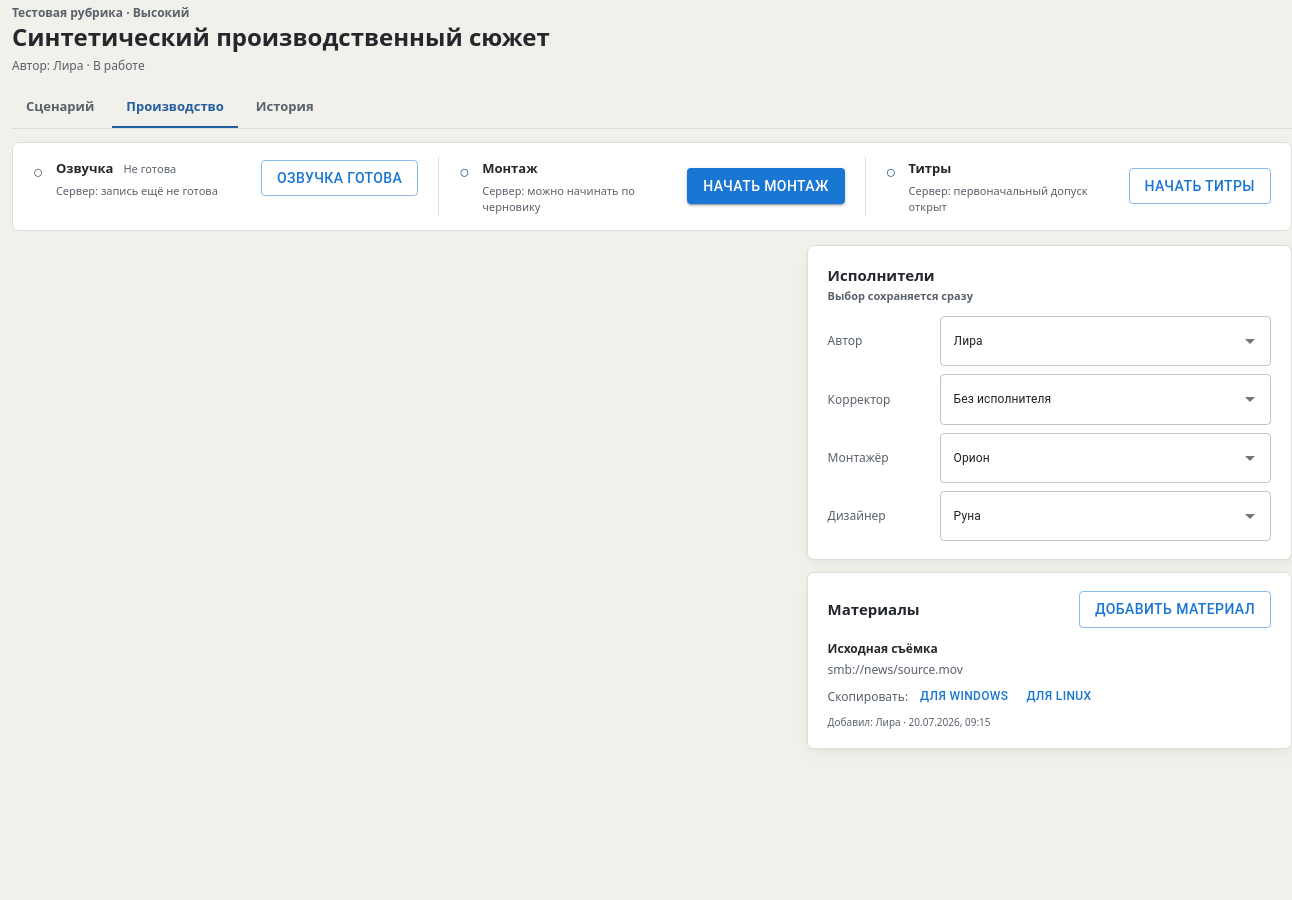
Test: StoryProductionPage server read model › changes the author first in performers using canonical story management
The image size is (1292, 900).
Click the dropdown named "Ответственный: Автор": (1090, 341) [949,325,1232,357]
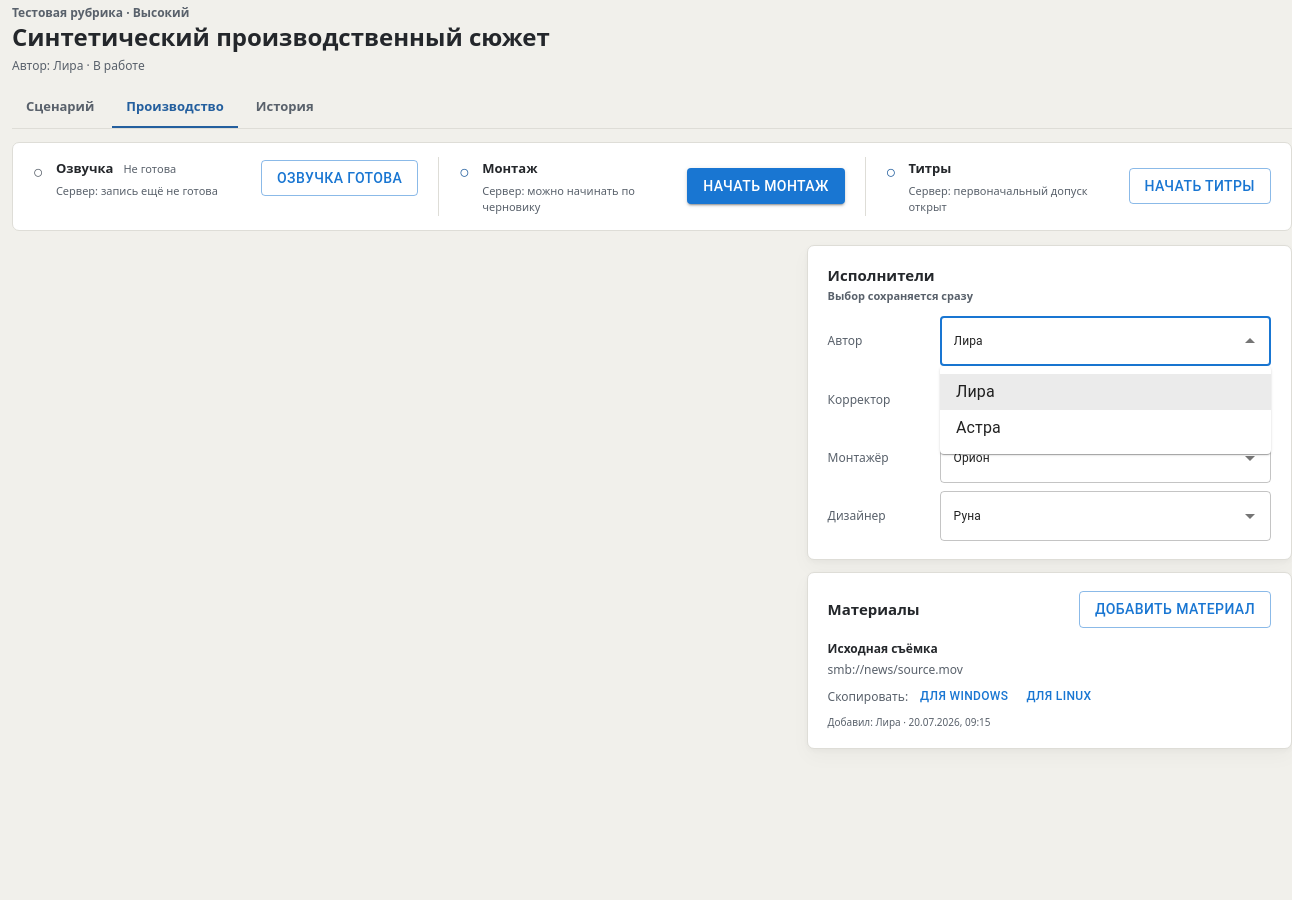
Click the option "Астра": (978, 428) [956,418,1001,437]
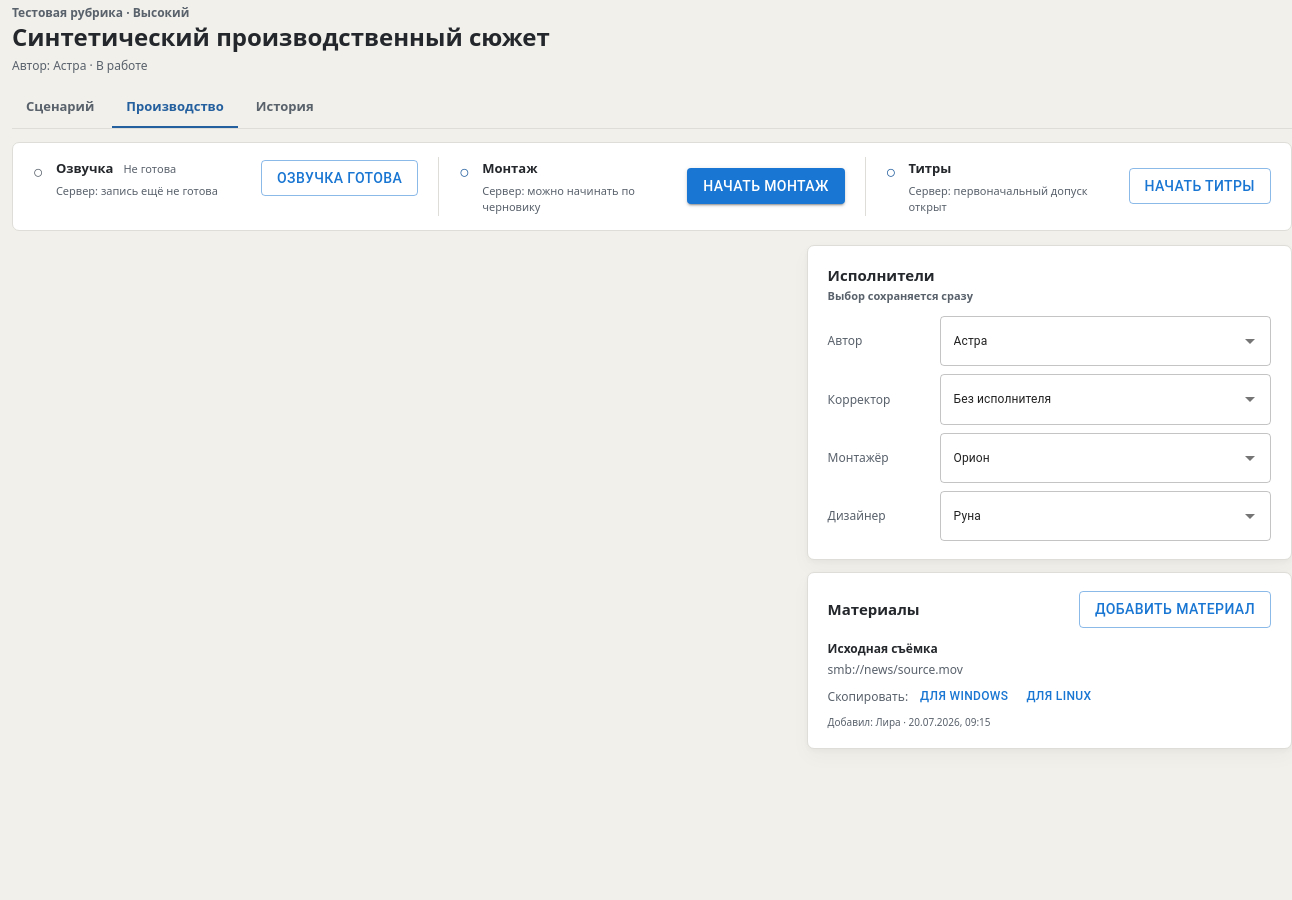
Now the text "Автор: Астра · В работе" is shown, box [12,57,148,74]
